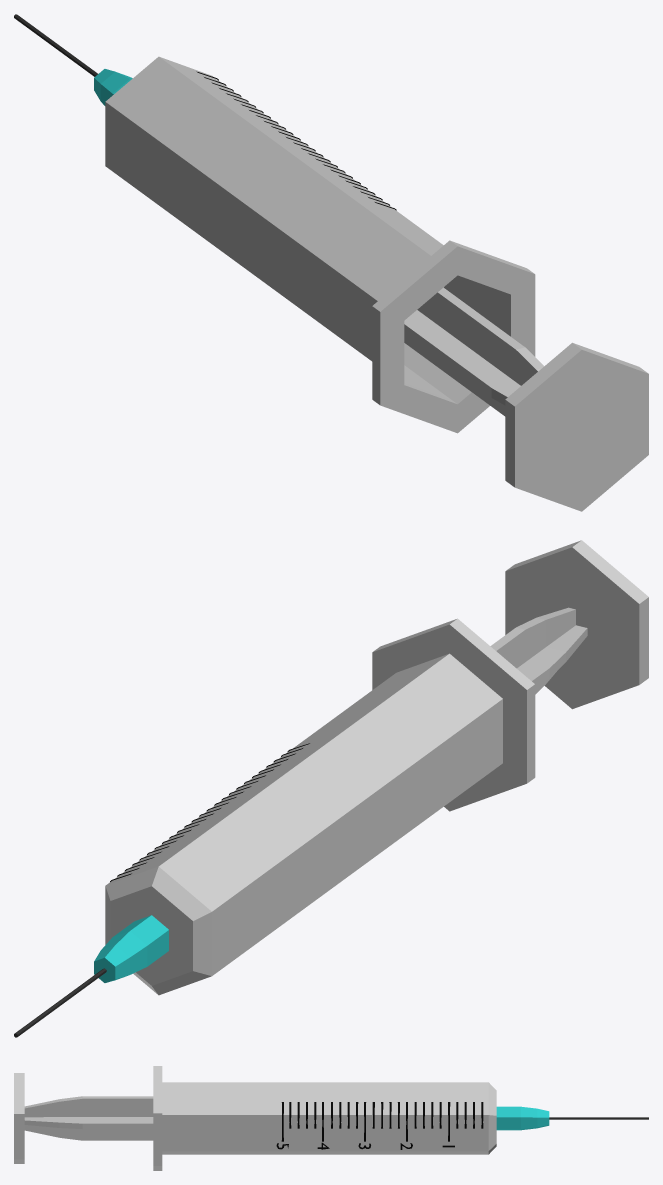
The model's file is syring.001.obj.
3 renders of one model, top to bottom at view 1: azimuth 30°, elevation 25°; view 2: azimuth 150°, elevation 25°; view 3: azimuth 270°, elevation 25°, orthographic. The views are drawn at different scales.
Parts seen in each view (by area): view 1: syring.012_syring.001; view 2: syring.012_syring.001; view 3: syring.012_syring.001.
Boxes of the visible parts, bbox=[...] form: syring.012_syring.001: bbox=[14, 14, 648, 511]; syring.012_syring.001: bbox=[14, 540, 648, 1037]; syring.012_syring.001: bbox=[14, 1066, 648, 1170].
Bounding box in the file's own units: 35.56 × 41.06 × 225.
